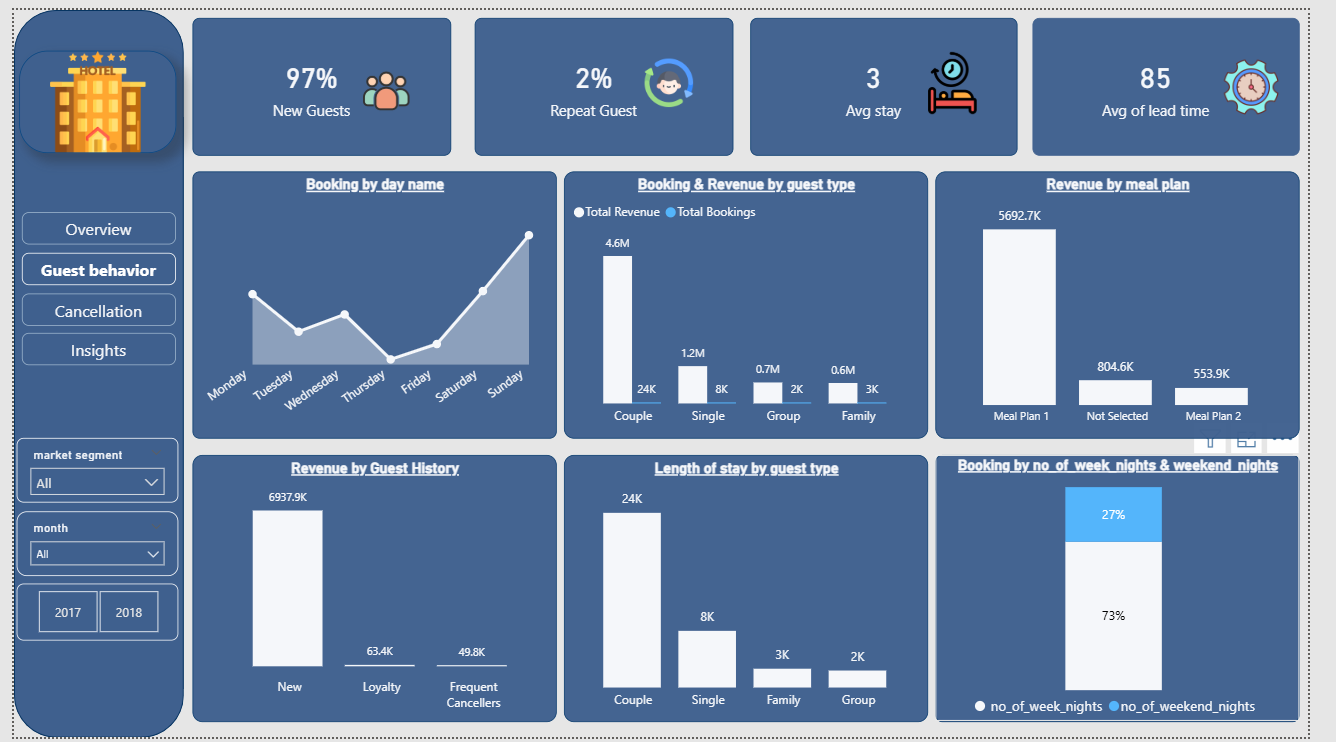

This screenshot's page, from the dashboard's own definition file:
{"tool":"powerbi","page":{"name":"Guest behavior","canvas":[1280,720],"ordinal":1},"visuals":[{"type":"card","fields":{"Values":["fact Booking.Repeat Customer"]},"box":[456,8,256,136],"z":0},{"type":"shape","box":[0,0,168,720],"z":1000},{"type":"card","fields":{"Values":["fact Booking.Avg stay"]},"box":[728,8,264,136],"z":2000},{"type":"image","box":[616,48,64,48],"z":3000},{"type":"image","box":[880,40,96,64],"z":4000},{"type":"clusteredColumnChart","title":"Booking &  Revenue by guest type","fields":{"Y":["fact Booking.Total Revenue","fact Booking.Total Bookings"],"Category":["fact Booking.Guest_Type"]},"box":[544,160,360,264],"z":5000},{"type":"card","fields":{"Values":["fact Booking.Avg of lead time"]},"box":[1008,8,264,136],"z":6000},{"type":"image","box":[1192,48,64,56],"z":7000},{"type":"image","box":[5.7,40,155.7,101.4],"z":8000},{"type":"hundredPercentStackedColumnChart","title":"Booking by no_of_week_nights & weekend_nights ","fields":{"Y":["Sum(fact Booking.no_of_week_nights)","Sum(fact Booking.no_of_weekend_nights)"]},"box":[912,440,360,264],"z":9000},{"type":"card","fields":{"Values":["fact Booking.New Guests"]},"box":[176,8,256,136],"z":10000},{"type":"clusteredColumnChart","title":"Length of stay by guest type","fields":{"Category":["fact Booking.Guest_Type"],"Y":["CountNonNull(fact Booking.stay_category)"]},"box":[544,440,360,264],"z":11000},{"type":"shape","box":[8,200,152,32],"z":12000},{"type":"image","box":[336,48,64,64],"z":13000},{"type":"areaChart","title":" Booking by day name","fields":{"Category":["Dim date.arrival_day_name"],"Y":["fact Booking.Total Bookings"]},"box":[176,160,360,264],"z":14000},{"type":"group","id":"g1","title":"Group 1","box":[8,280,152,32],"z":15000},{"type":"group","id":"g2","title":"Group 1","box":[8,240,152,32],"z":16000},{"type":"shape","box":[8,240,152,32],"z":16000,"group":"g2"},{"type":"shape","box":[8,280,152,32],"z":16000,"group":"g1"},{"type":"shape","box":[8,320,152,32],"z":16000,"group":"g3"},{"type":"textbox","box":[16,240,136,32],"z":17000,"group":"g2"},{"type":"textbox","box":[16,280,136,32],"z":17000,"group":"g1"},{"type":"group","id":"g3","title":"Group 1","box":[8,320,152,32],"z":17000},{"type":"textbox","box":[16,320,136,32],"z":17000,"group":"g3"},{"type":"textbox","box":[16,200,136,32],"z":18000},{"type":"slicer","fields":{"Values":["Dim date.arrival_year"]},"box":[3.1,568,160,56],"z":19000},{"type":"slicer","fields":{"Values":["Dim market.market_segment_type"]},"box":[3.1,424,160,64],"z":20000},{"type":"slicer","fields":{"Values":["Dim date.arrival_month_name"]},"box":[3.1,496,160,64],"z":21000},{"type":"clusteredColumnChart","title":"Revenue by meal plan","fields":{"Y":["fact Booking.Total Revenue"],"Category":["Dim meal.type_of_meal_plan"]},"box":[912,160,360,264],"z":22000},{"type":"clusteredColumnChart","title":"Revenue by Guest History","fields":{"Y":["fact Booking.Total Revenue"],"Category":["fact Booking.Guest History"]},"box":[176,440,360,264],"z":23000}]}

Visuals, with their boxes in screenshot pixels (x1, y1, x2, y2), scaled from the page's 1280x720 canvas onto the 1336x742 screenshot:
card - fact Booking.Repeat Customer: left=476, top=8, right=743, bottom=148
shape: left=0, top=0, right=175, bottom=741
card - fact Booking.Avg stay: left=760, top=8, right=1035, bottom=148
image: left=643, top=49, right=710, bottom=99
image: left=918, top=41, right=1019, bottom=107
"Booking &  Revenue by guest type" clusteredColumnChart: left=568, top=165, right=944, bottom=437
card - fact Booking.Avg of lead time: left=1052, top=8, right=1328, bottom=148
image: left=1244, top=49, right=1311, bottom=107
image: left=6, top=41, right=168, bottom=146
"Booking by no_of_week_nights & weekend_nights " hundredPercentStackedColumnChart: left=952, top=453, right=1328, bottom=726
card - fact Booking.New Guests: left=184, top=8, right=451, bottom=148
"Length of stay by guest type" clusteredColumnChart: left=568, top=453, right=944, bottom=726
shape: left=8, top=206, right=167, bottom=239
image: left=351, top=49, right=418, bottom=115
" Booking by day name" areaChart: left=184, top=165, right=559, bottom=437
"Group 1" group: left=8, top=289, right=167, bottom=322
"Group 1" group: left=8, top=247, right=167, bottom=280
shape: left=8, top=247, right=167, bottom=280
shape: left=8, top=289, right=167, bottom=322
shape: left=8, top=330, right=167, bottom=363
textbox: left=17, top=247, right=159, bottom=280
textbox: left=17, top=289, right=159, bottom=322
"Group 1" group: left=8, top=330, right=167, bottom=363
textbox: left=17, top=330, right=159, bottom=363
textbox: left=17, top=206, right=159, bottom=239
slicer - Dim date.arrival_year: left=3, top=585, right=170, bottom=643
slicer - Dim market.market_segment_type: left=3, top=437, right=170, bottom=503
slicer - Dim date.arrival_month_name: left=3, top=511, right=170, bottom=577
"Revenue by meal plan" clusteredColumnChart: left=952, top=165, right=1328, bottom=437
"Revenue by Guest History" clusteredColumnChart: left=184, top=453, right=559, bottom=726
